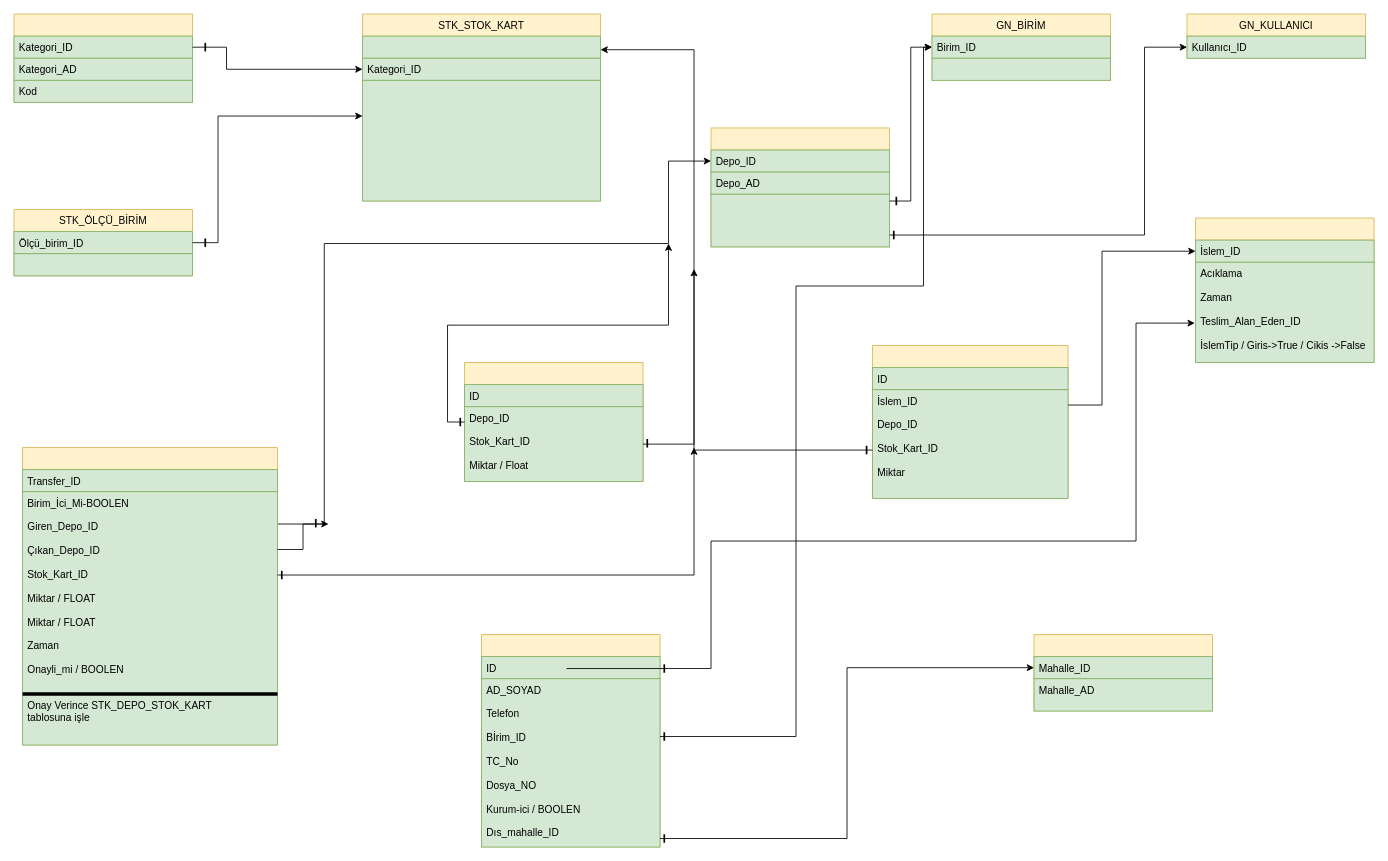
Some shapes in this 1388 by 861 pixel diagram are drawn without their labels. The shapes that lost their labels are listed below. From the top down, each one's box as (x1, y1, x2, y2) in pixels, then its label:
(13, 13, 193, 102): STK_KATEGORİ
(362, 35, 601, 58): Stok_Kart_ID
(931, 57, 1111, 80): Birim_AD
(362, 79, 601, 201): Kart_Adı Ölçü_Birimi_ID Kod Açıklama Durum (SIFIR/İKİNCİ_EL)
(710, 127, 890, 247): STK_DEPO
(710, 193, 890, 247): Birim_ID Depo_Sorumlu_ID
(13, 253, 193, 276): Ölçü_birim_AD
(1195, 217, 1374, 363): STK_STOK_KART_İSLEM
(464, 362, 643, 482): STK_DEPO_STOK_KART
(872, 345, 1068, 499): STK_STOK_KART_DEPO_HAREKET
(22, 447, 278, 745): STK_DEPO_TRANSFER
(1033, 634, 1213, 711): GN_MAHALLE
(481, 634, 660, 847): STK_TESLİM_ALAN_EDEN
